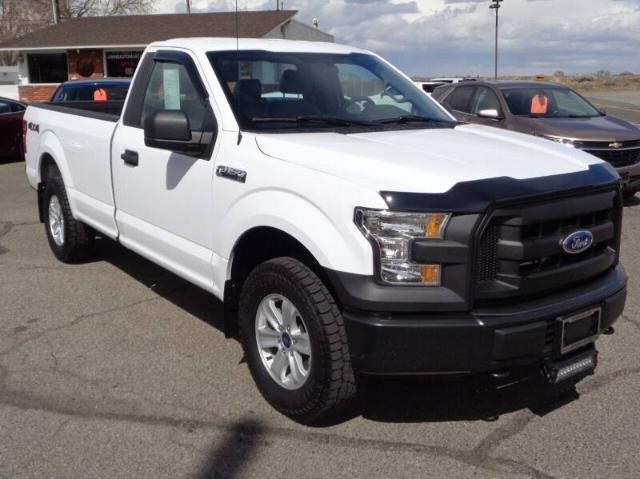pickup-truck: (20, 36, 630, 425)
